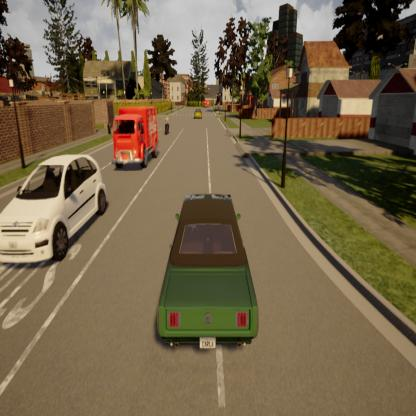Cars: (148, 189, 264, 359), (0, 143, 112, 272), (106, 104, 164, 176), (193, 107, 204, 122)
